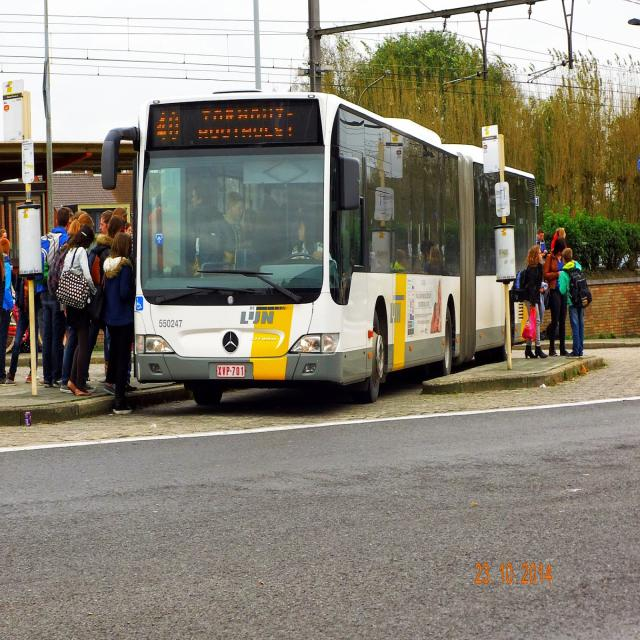bus-number: (156, 107, 180, 143)
